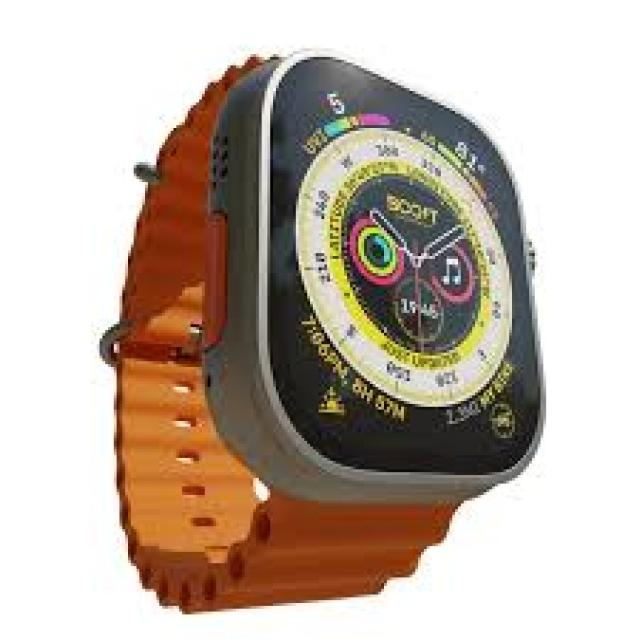objects: (111, 55, 550, 609)
